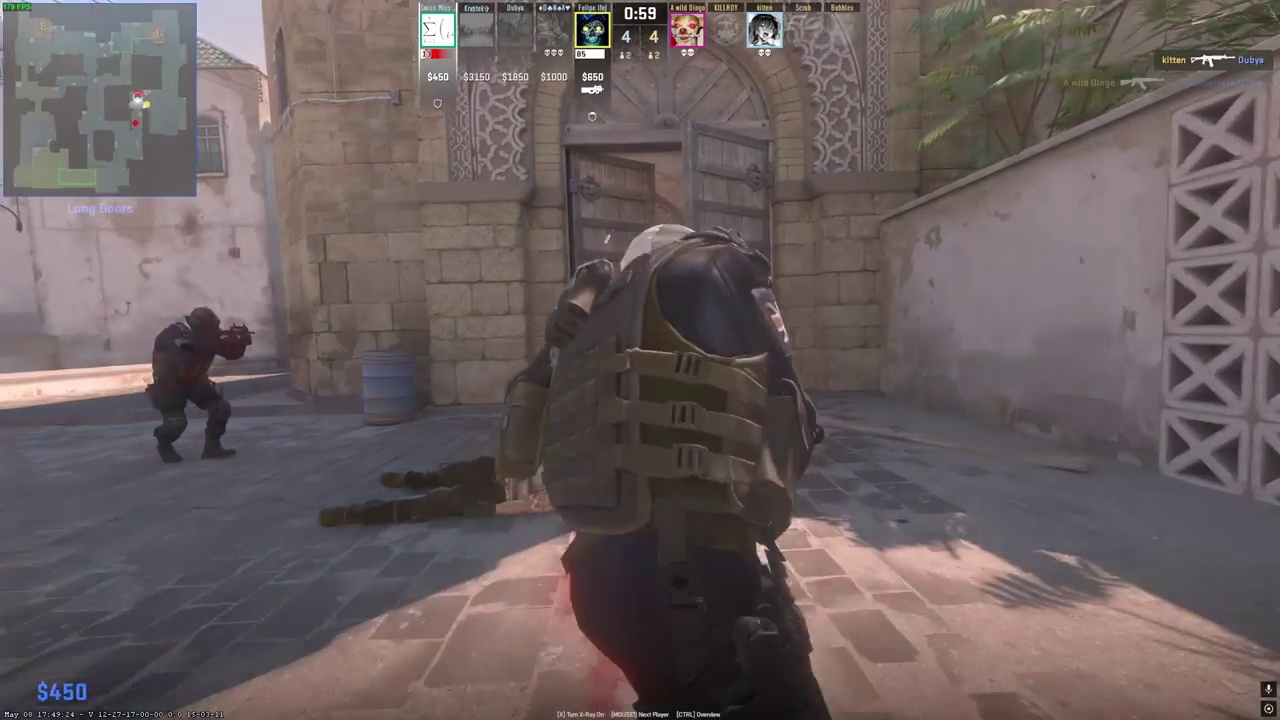CT: (549, 223, 826, 720), (145, 305, 242, 463)
